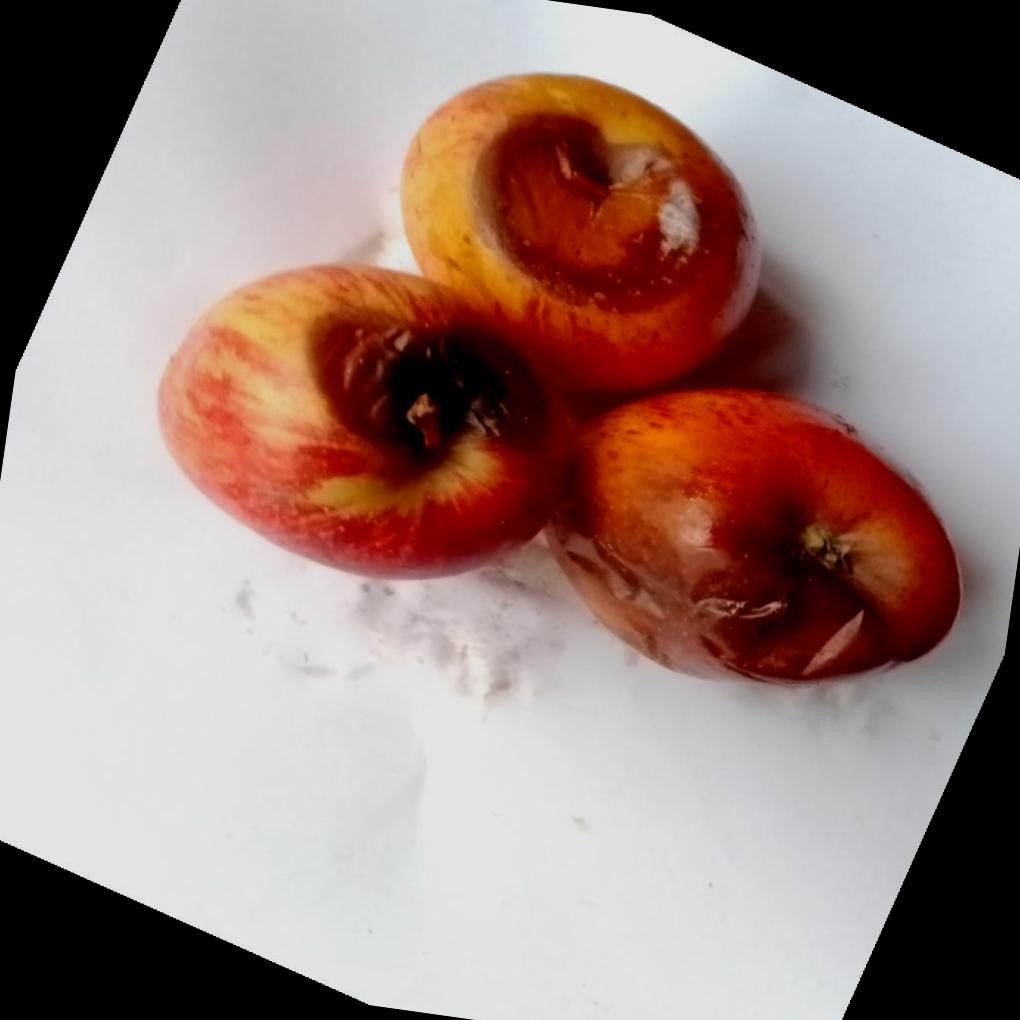FreshOrange: (155, 95, 958, 687)
